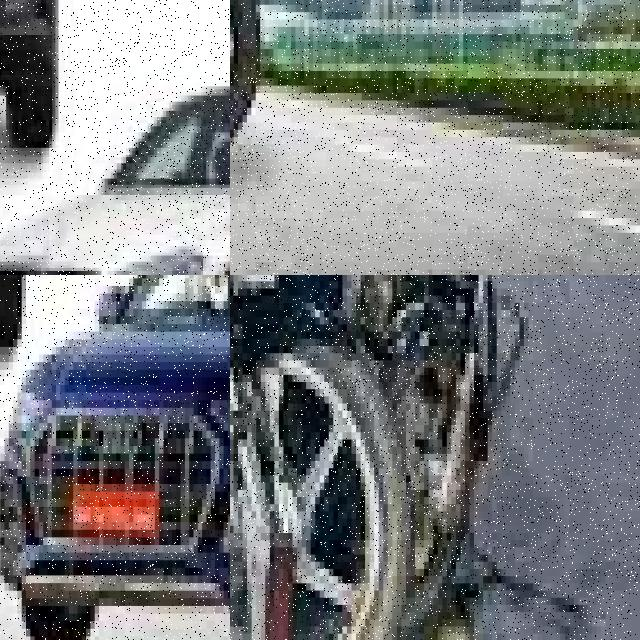bike: (360, 275, 583, 640), (230, 275, 410, 640)
car: (0, 275, 230, 640), (0, 0, 230, 275), (0, 0, 126, 163)
